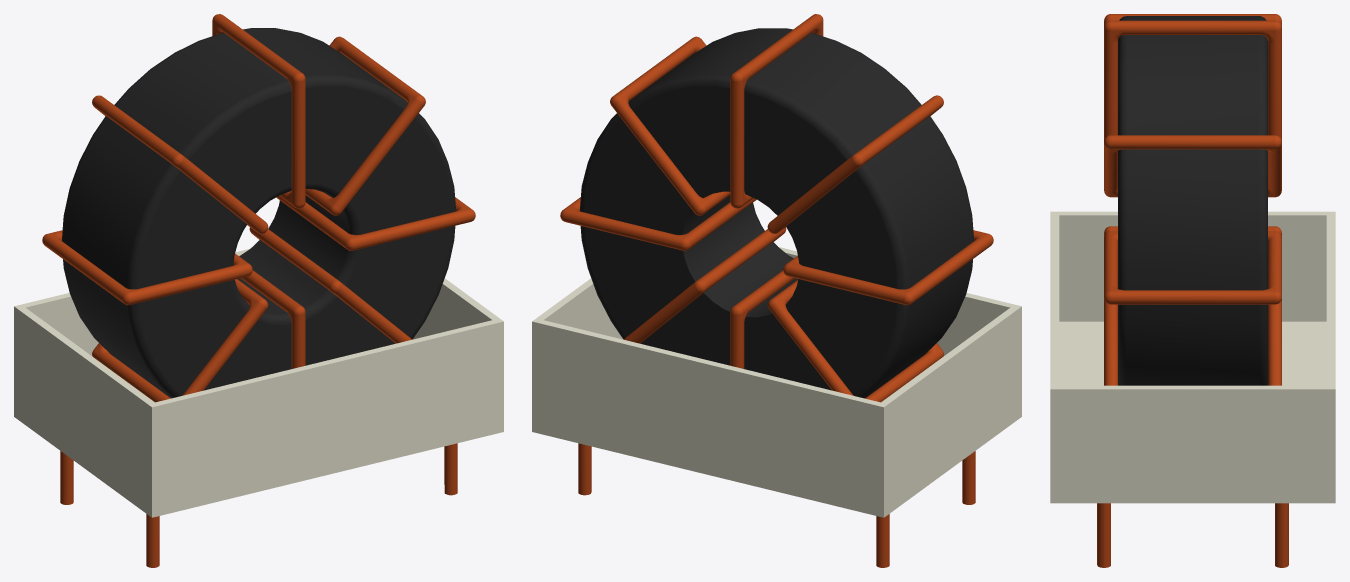
File: kc-l_commonmode_toroid_vertical_l24.0mm_w16.3mm_px10.16mm_py20.32mm_murata_5200.glb
The picture shows the model from 3 angles, left to right: view 1: azimuth 30°, elevation 25°; view 2: azimuth 150°, elevation 25°; view 3: azimuth 270°, elevation 25°; orthographic projection. The views are drawn at different scales.
Parts seen in each view (by area): view 1: 0_0_0_0, 0.75_0.75_0.6666666666666666_0, 0.4166666666666667_0.08333333333333333_0_0; view 2: 0_0_0_0, 0.75_0.75_0.6666666666666666_0, 0.4166666666666667_0.08333333333333333_0_0; view 3: 0.75_0.75_0.6666666666666666_0, 0_0_0_0, 0.4166666666666667_0.08333333333333333_0_0.
Boxes of the visible parts, x1,y1,x2,y2 form: 0_0_0_0: (62,28,456,398); 0.75_0.75_0.6666666666666666_0: (14,249,503,517); 0.4166666666666667_0.08333333333333333_0_0: (42,14,475,567); 0_0_0_0: (579,28,974,398); 0.75_0.75_0.6666666666666666_0: (532,247,1021,517); 0.4166666666666667_0.08333333333333333_0_0: (560,14,993,567); 0.75_0.75_0.6666666666666666_0: (1050,211,1335,503); 0_0_0_0: (1118,16,1267,385); 0.4166666666666667_0.08333333333333333_0_0: (1097,14,1288,567).
Bounding box in the file's own units: 2.4 × 2.95 × 1.63.
